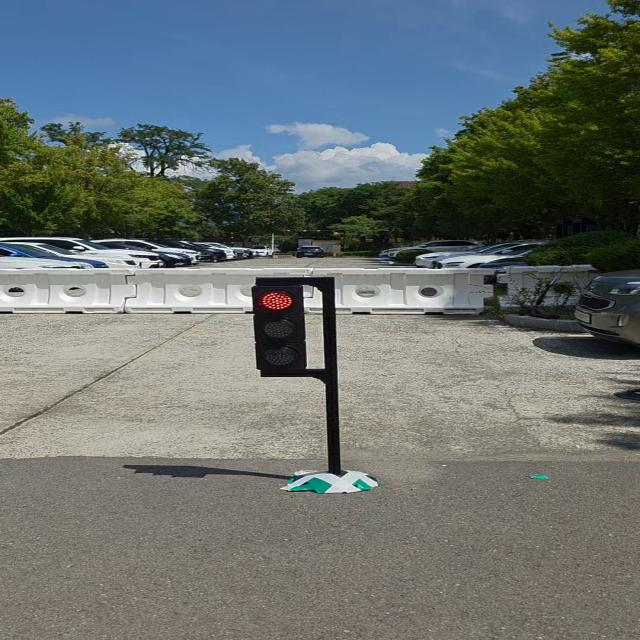red: (248, 281, 312, 374)
